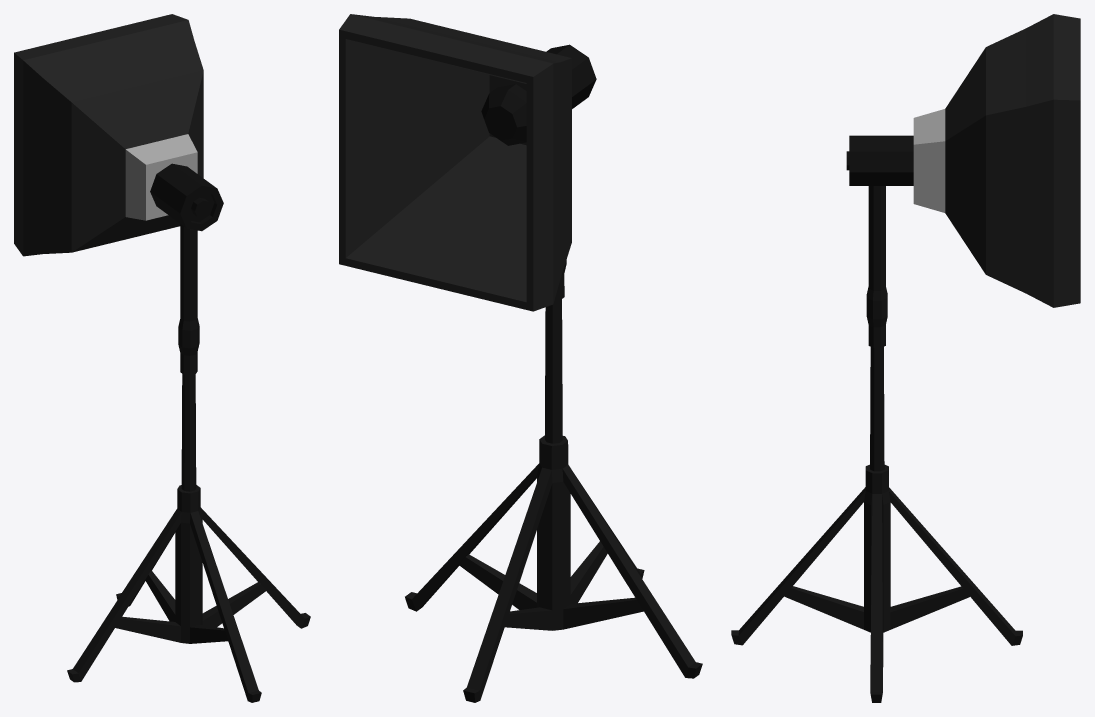
File: StudioLightV2.fbx
The picture shows the model from 3 angles, left to right: view 1: azimuth 30°, elevation 25°; view 2: azimuth 150°, elevation 25°; view 3: azimuth 270°, elevation 25°; orthographic projection. The views are drawn at different scales.
Visible parts, largest first — view 1: StudioLightV2; view 2: StudioLightV2; view 3: StudioLightV2.
Part boxes in pixels (x1,y1,x2,y2): StudioLightV2: [14, 14, 310, 702]; StudioLightV2: [339, 14, 702, 702]; StudioLightV2: [731, 14, 1080, 702].
Bounding box in the file's own units: 69.38 × 154 × 83.05.
